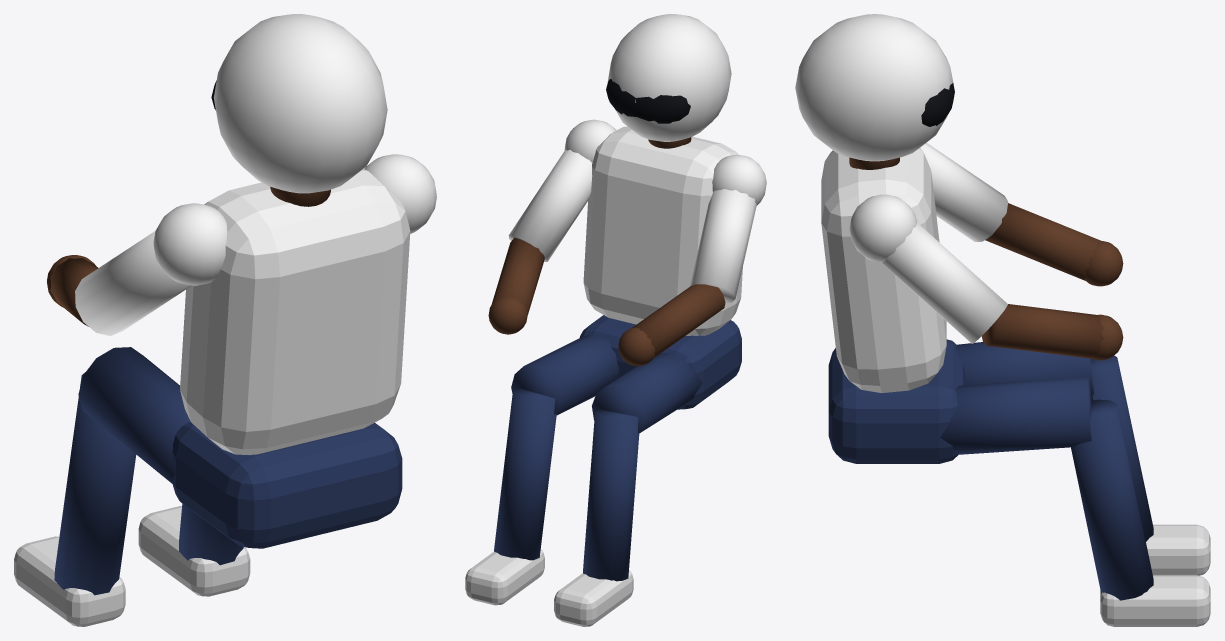
The model's file is Driver_Car.fbx.
The picture shows the model from 3 angles, left to right: view 1: azimuth 30°, elevation 25°; view 2: azimuth 150°, elevation 25°; view 3: azimuth 270°, elevation 25°; orthographic projection. The views are drawn at different scales.
Parts seen in each view (by area): view 1: Driver_Car; view 2: Driver_Car; view 3: Driver_Car.
Boxes of the visible parts, x1,y1,x2,y2 form: Driver_Car: [14, 14, 436, 626]; Driver_Car: [465, 14, 766, 626]; Driver_Car: [795, 14, 1210, 626].
Bounding box in the file's own units: 0.6571 × 1.38 × 0.9028.
